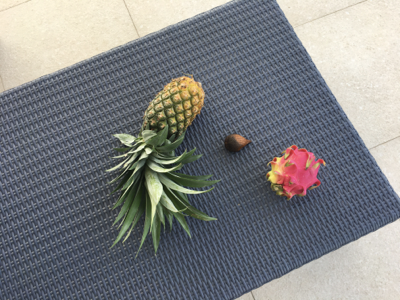dragon fruit: (268, 144, 326, 201)
pineapple: (105, 76, 218, 256)
snake fruit: (224, 134, 251, 152)
